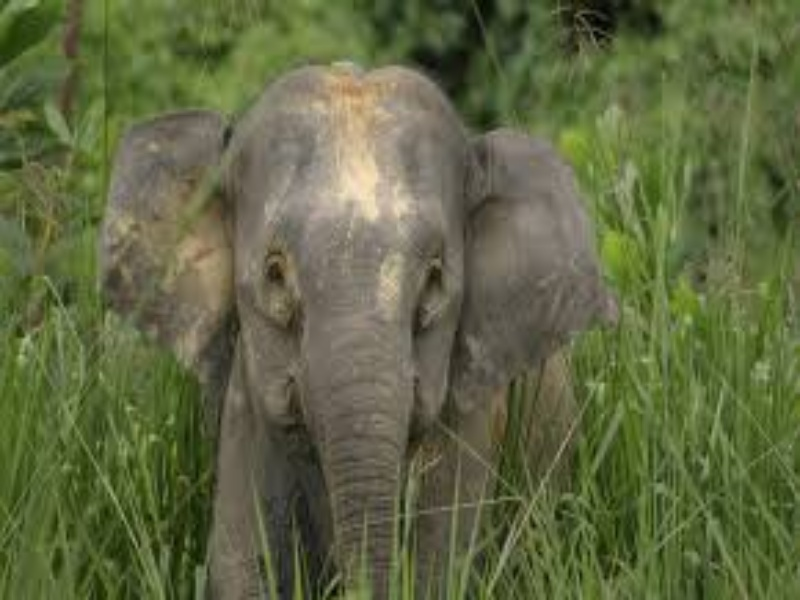elephant: (74, 53, 645, 576)
